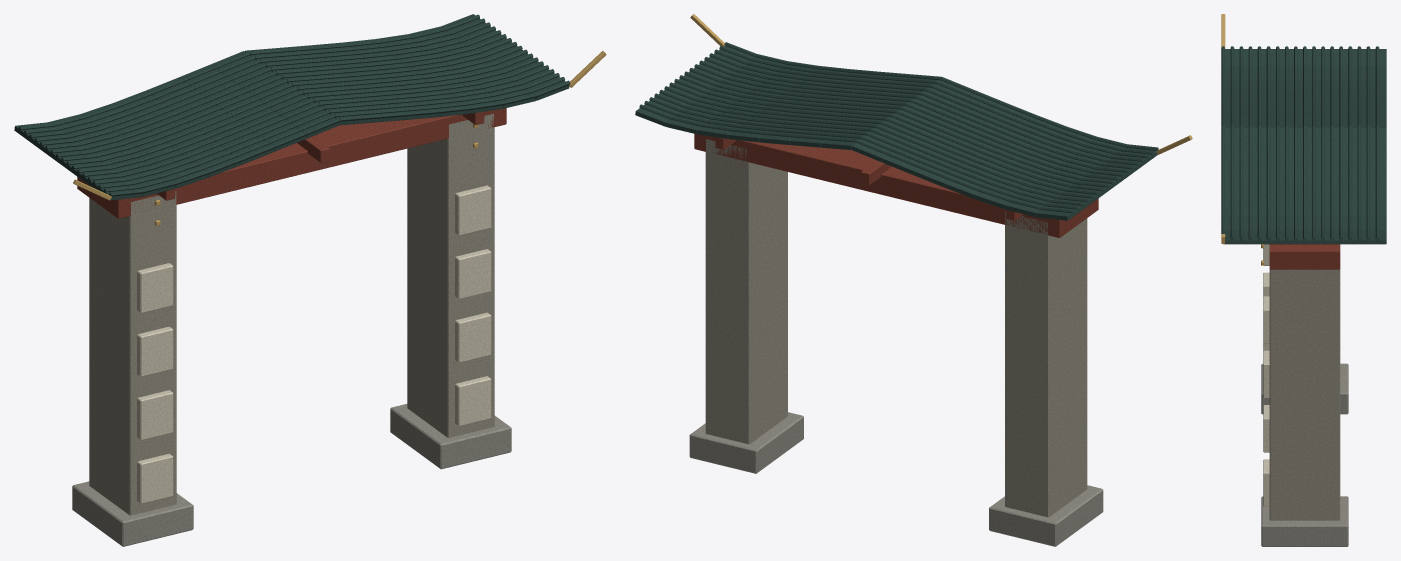
File: CHINGAT2_lod0.glb
The picture shows the model from 3 angles, left to right: view 1: azimuth 30°, elevation 25°; view 2: azimuth 150°, elevation 25°; view 3: azimuth 270°, elevation 25°; orthographic projection. The views are drawn at different scales.
Visible parts, largest first — view 1: CHINGAT2_LOD0; view 2: CHINGAT2_LOD0; view 3: CHINGAT2_LOD0.
Part boxes in pixels (bbox=[...]): CHINGAT2_LOD0: bbox=[14, 14, 606, 546]; CHINGAT2_LOD0: bbox=[635, 14, 1192, 546]; CHINGAT2_LOD0: bbox=[1221, 14, 1386, 546].
Size of the model in its own units: 9.63 by 6.94 by 3.04.
Materials: 6 (5 with a texture image).
